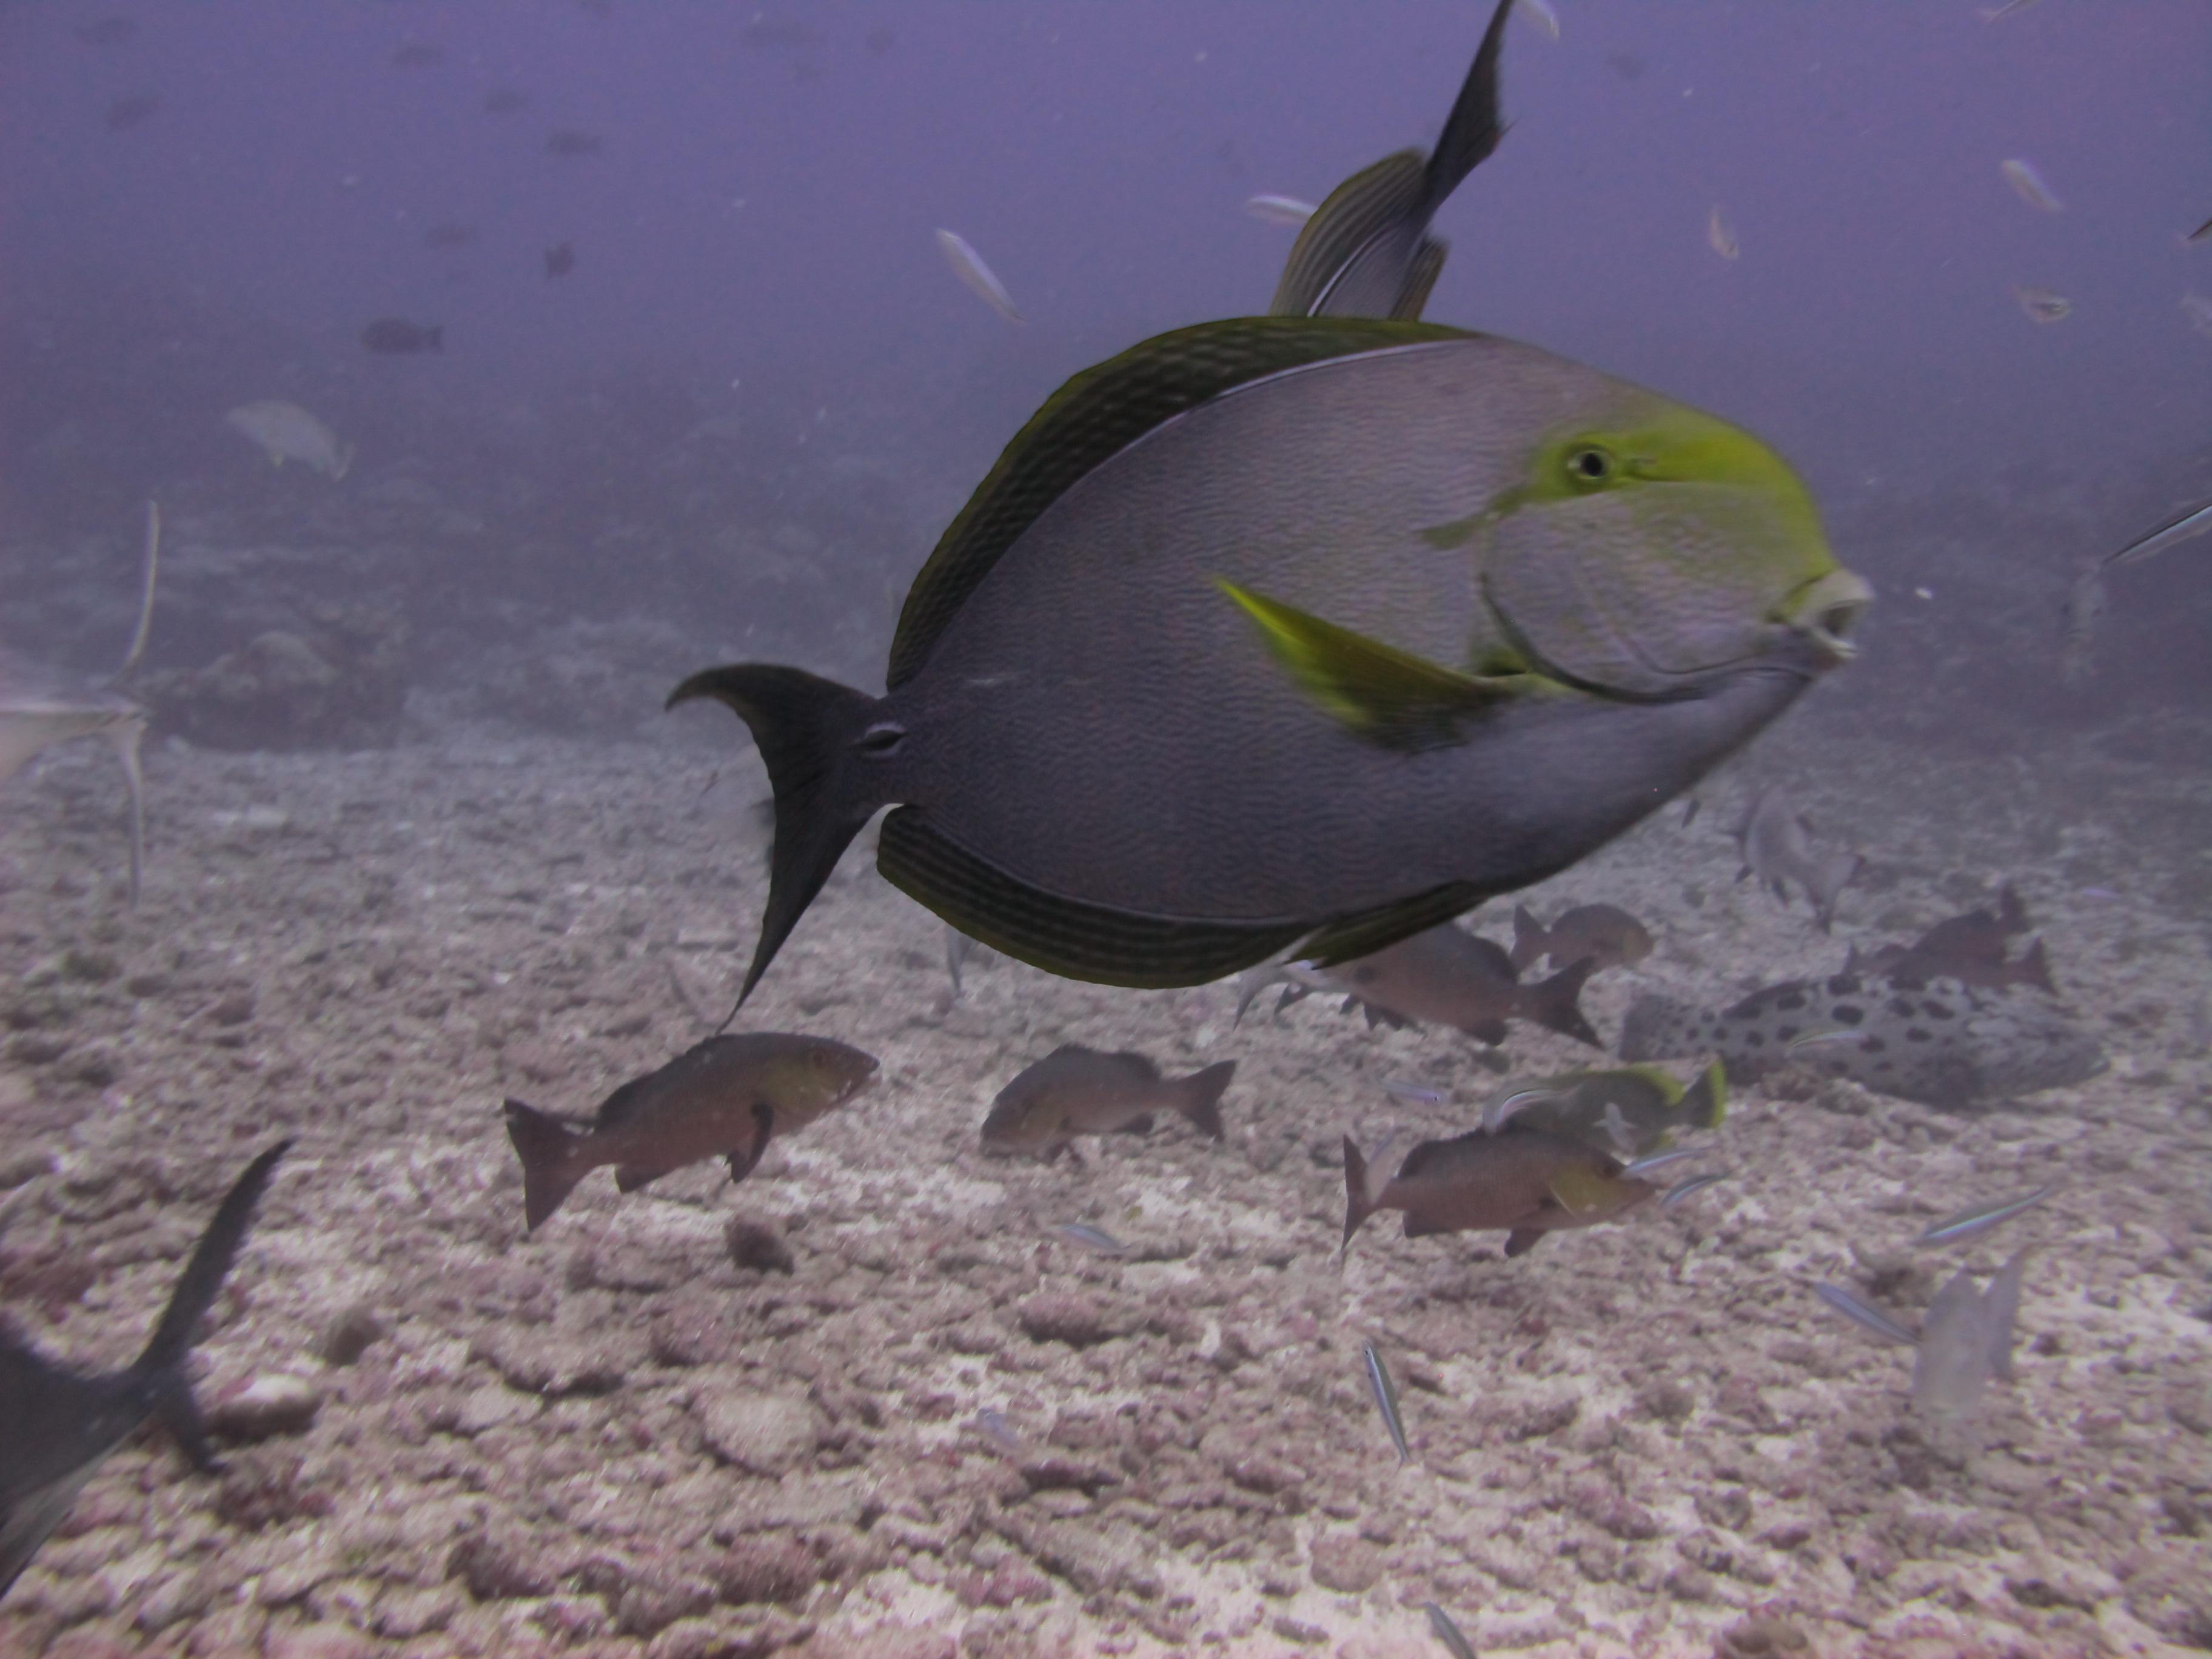Fish: (637, 286, 2064, 1053)
